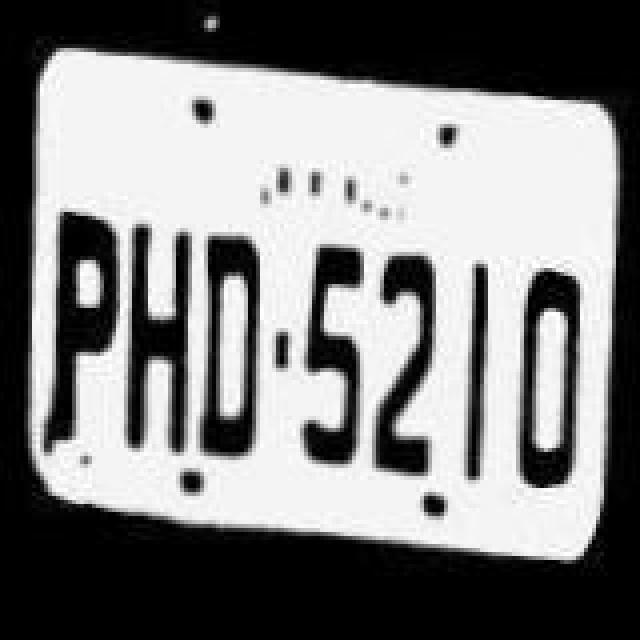1: (460, 246, 512, 514)
2: (364, 240, 444, 504)
5: (298, 230, 374, 486)
D: (198, 220, 274, 484)
H: (124, 218, 204, 474)
O: (510, 244, 606, 508)
P: (40, 204, 128, 460)
